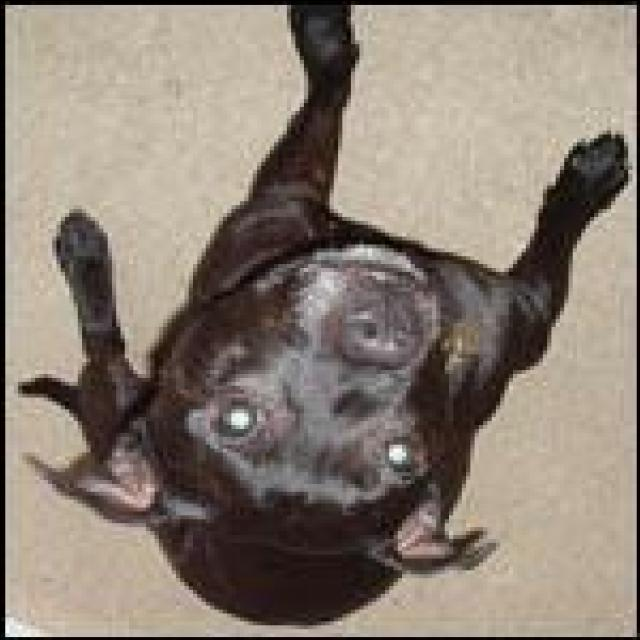staffordshire_bullterrier: (25, 4, 636, 632)
